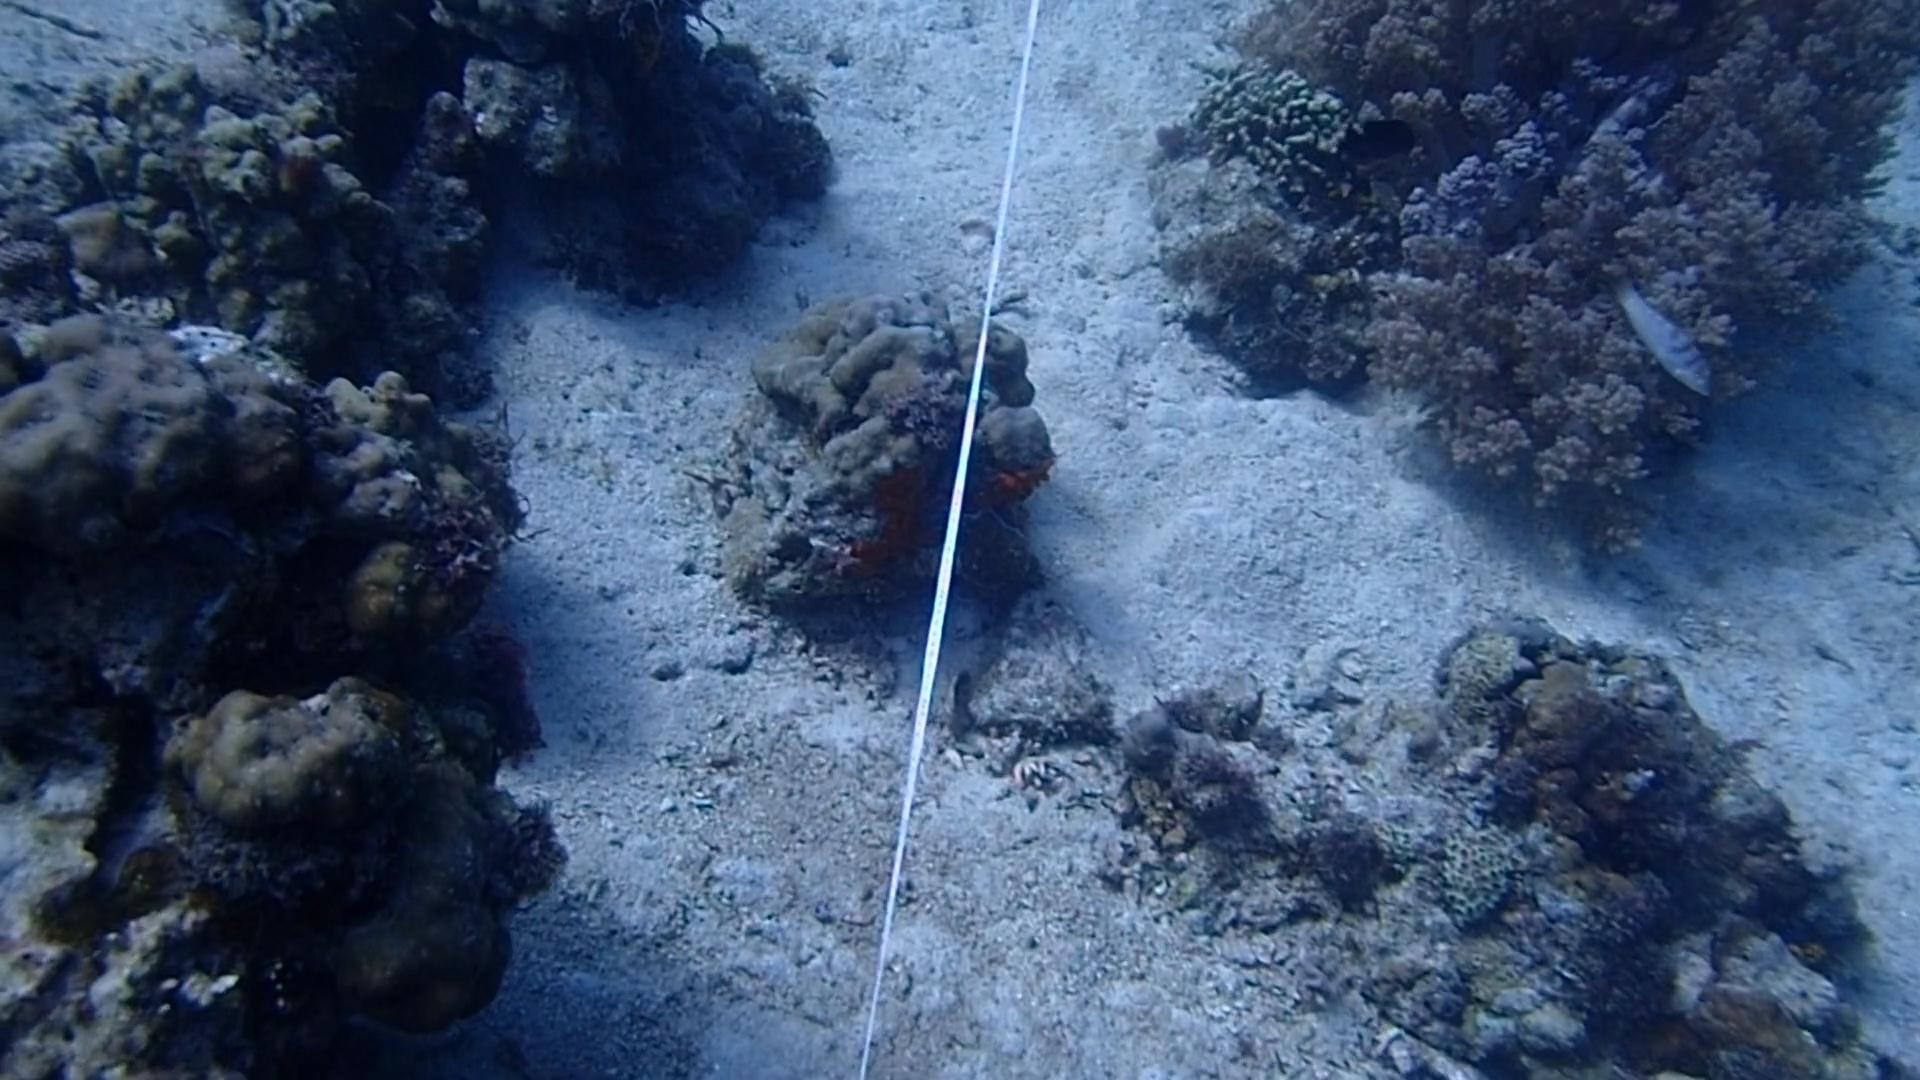Dark Fish: (1321, 104, 1422, 183)
Light Fish w Back Stripes: (1604, 265, 1718, 398)
